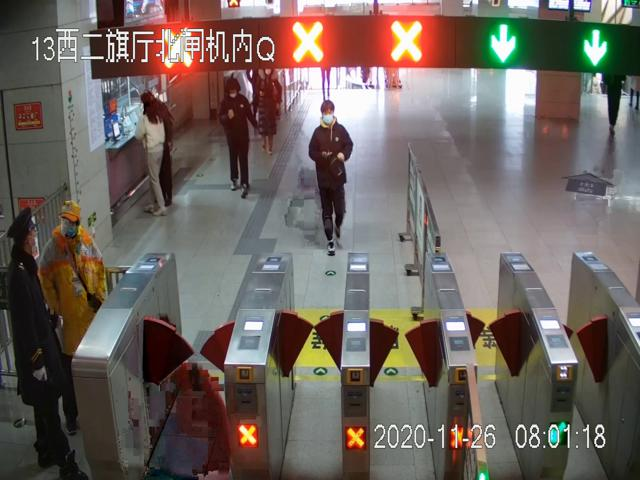person: (0, 202, 76, 475), (38, 202, 106, 436), (309, 105, 358, 259), (213, 80, 265, 198), (136, 95, 174, 218)
